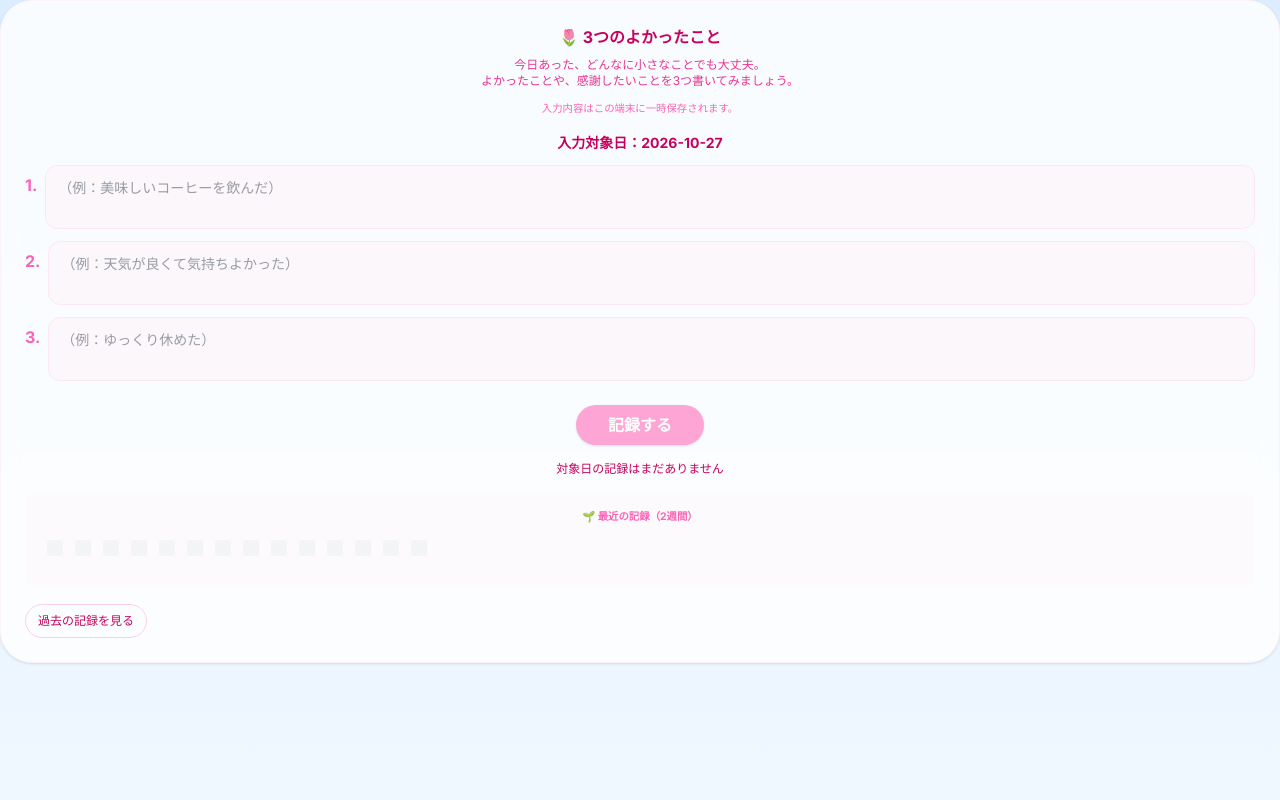
ThreeGoodThingsCard › 保存中に想定外の例外が発生した場合は保存エラーを表示して再操作可能に戻る
The width and height of the screenshot is (1280, 800).
Type "朝の空気が気持ちよかった" into the text box with placeholder "（例：美味しいコーヒーを飲んだ）" at [650, 197], box [45,165,1255,229]
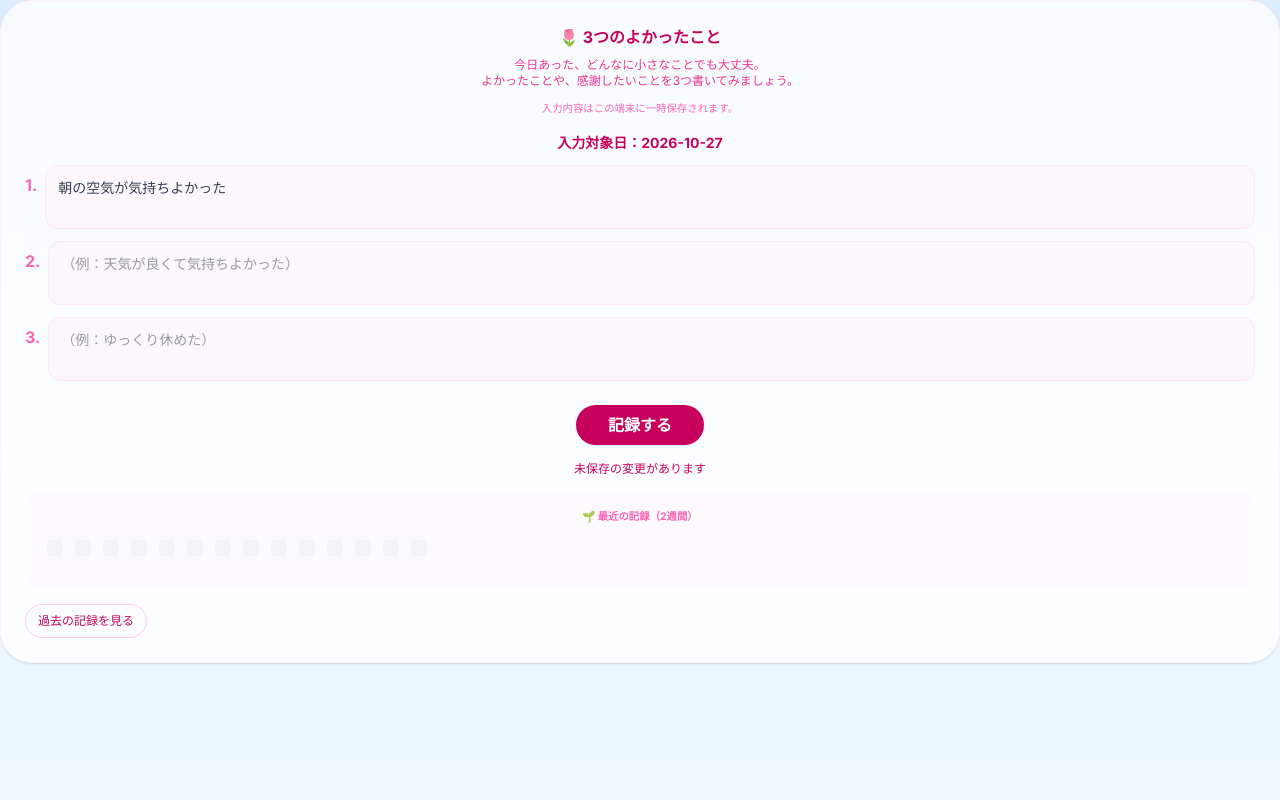
Type "温かいお茶を飲めた" into the text box with placeholder "（例：天気が良くて気持ちよかった）" at [652, 273], box [48,241,1255,305]
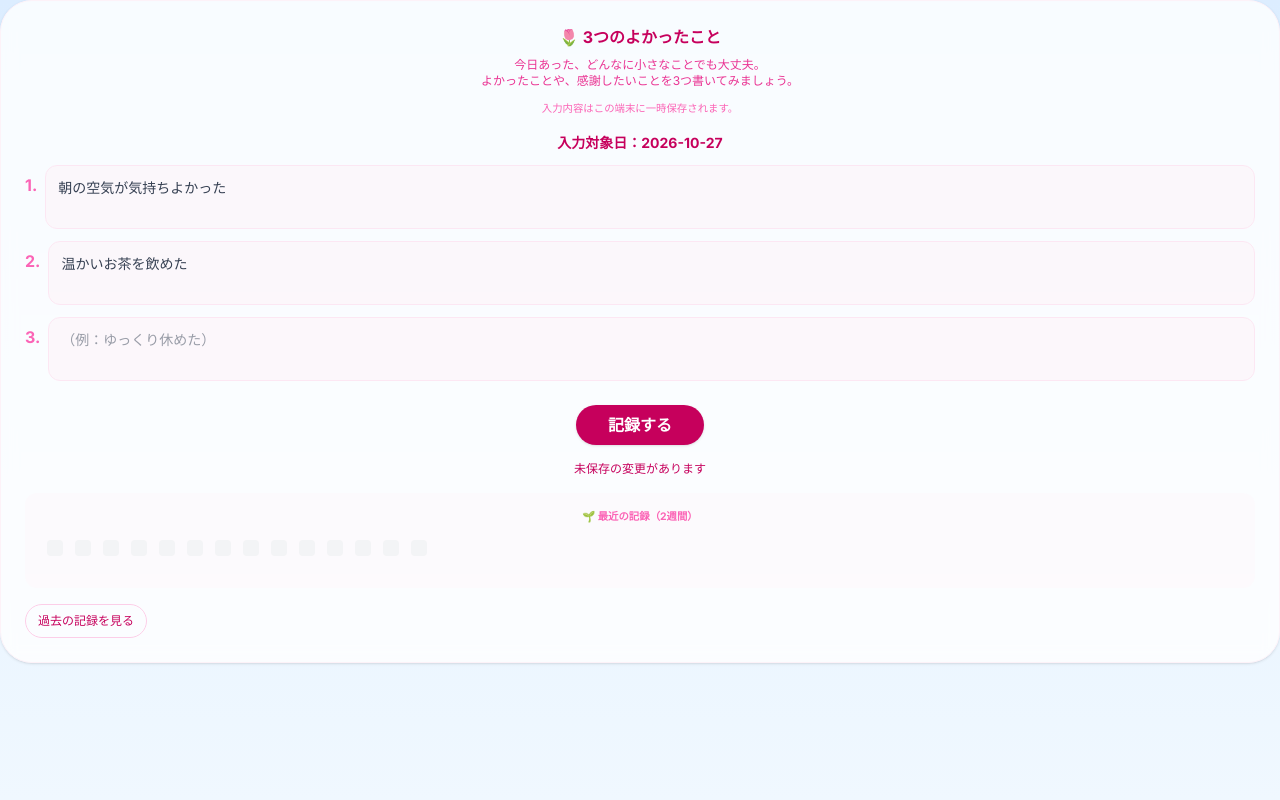
Type "少しだけ片付けできた" into the text box with placeholder "（例：ゆっくり休めた）" at [652, 349], box [48,317,1255,381]
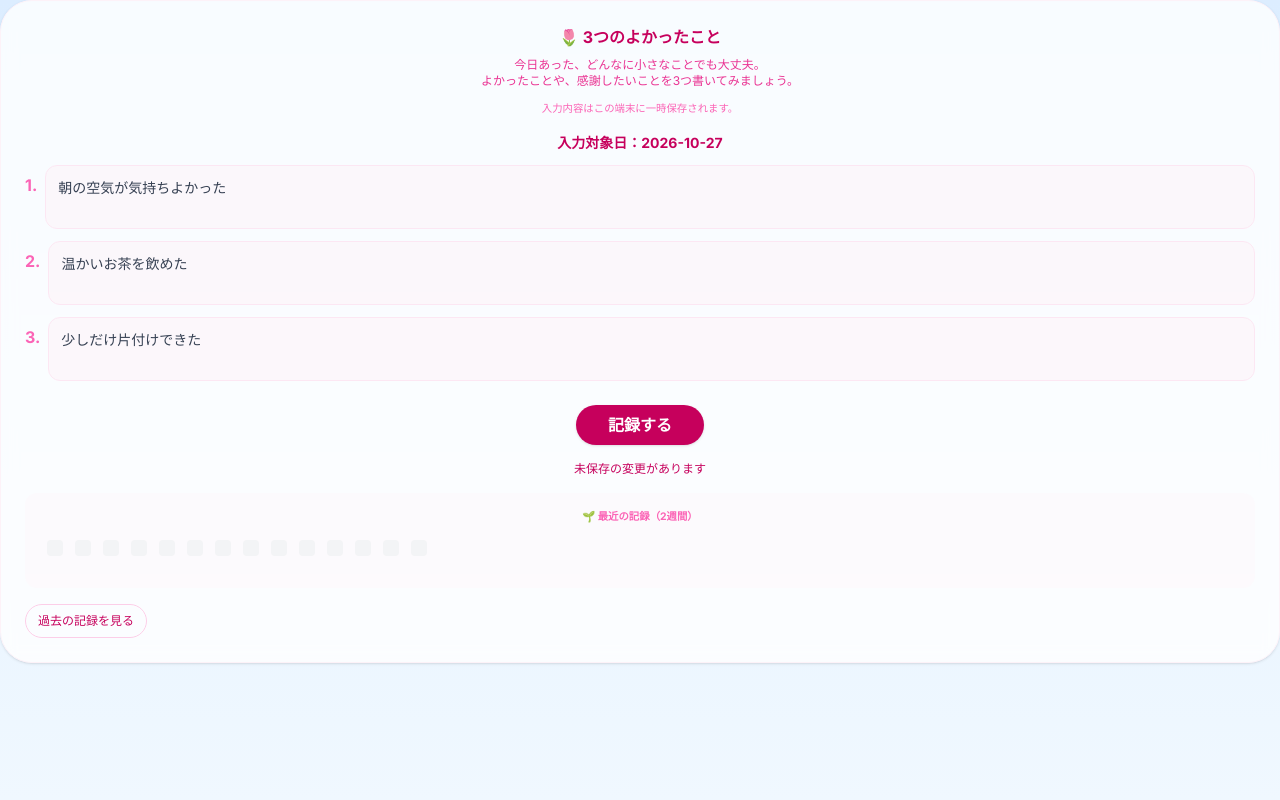
Click the button "記録する" at [640, 425], box [576,405,704,445]
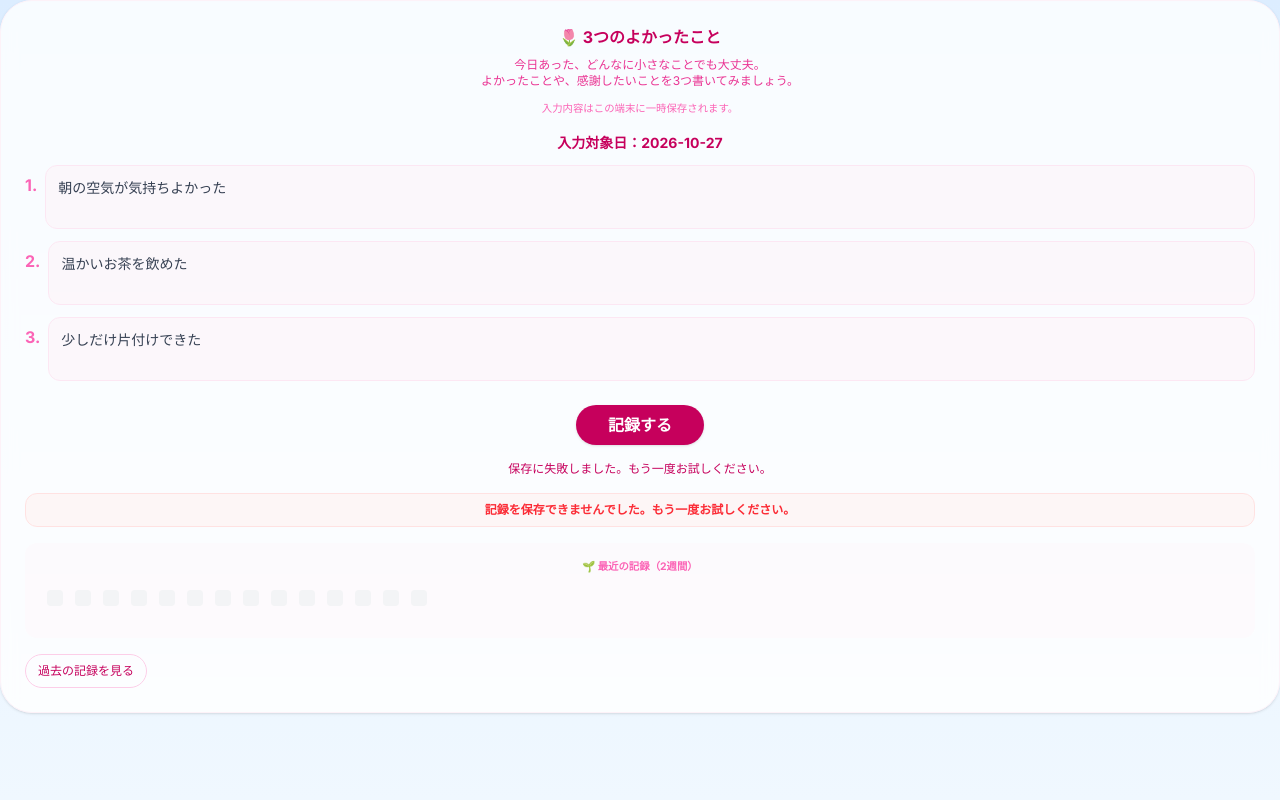
Now the button "記録する" is enabled, box [576,405,704,445]
Now the message "記録を保存できませんでした。もう一度お試しください。" is shown, box [25,493,1255,527]
